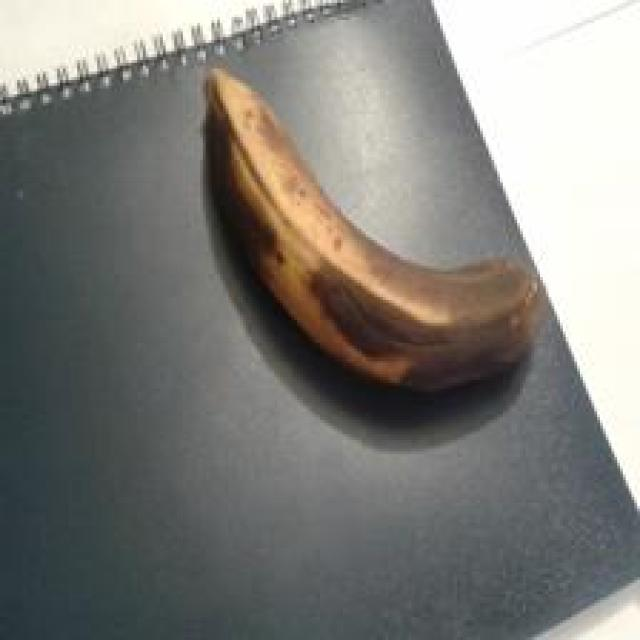Rotten_Banana: (172, 49, 550, 395)
